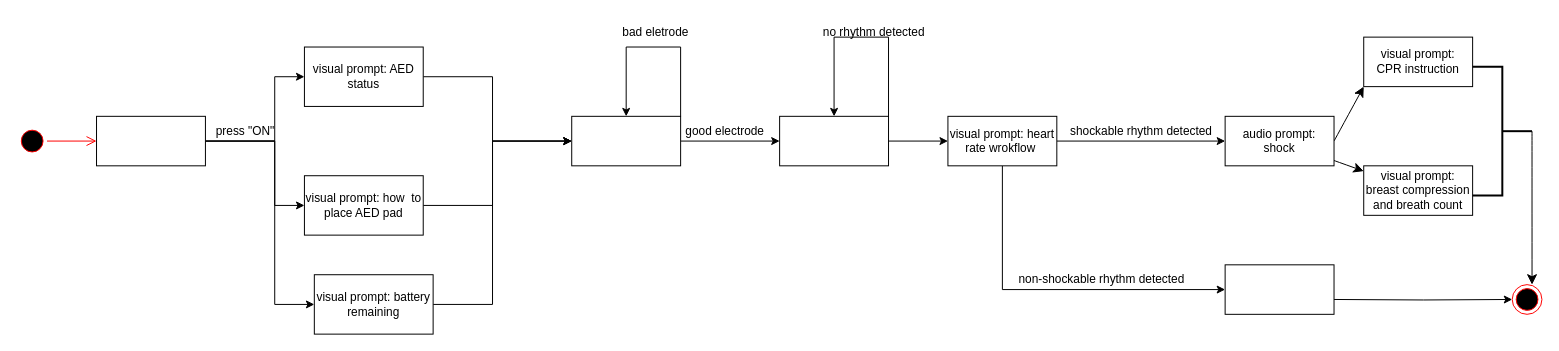
Image size: 1559x351. Some labels were removed from this diagram. The centre of each missing label's shape, as x and y in pixels:
"audio prompt: contunue CPR" belongs at (1279,289).
"shut down" belongs at (150,140).
"working: attaching pads" belongs at (626,140).
"working: heart rhythm analysis" belongs at (834,140).
